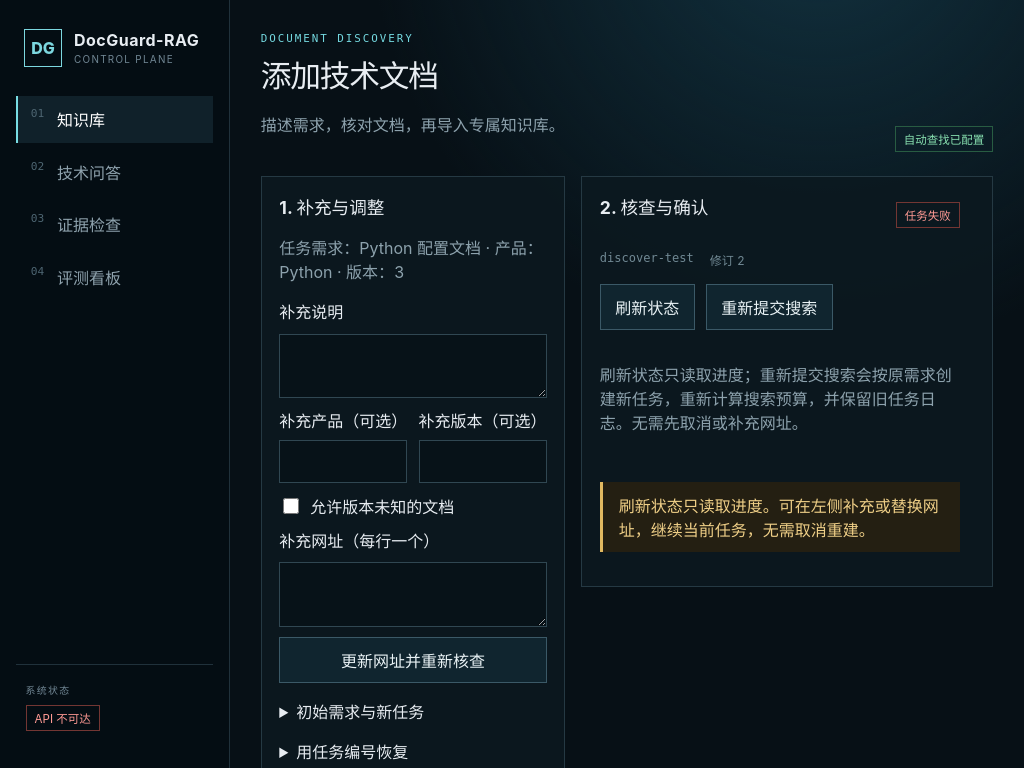
Test case: resubmitting explicit failed URLs preserves them and active searches cannot resubmit
Click the button "重新提交搜索" at (769,307), box [706,284,833,330]
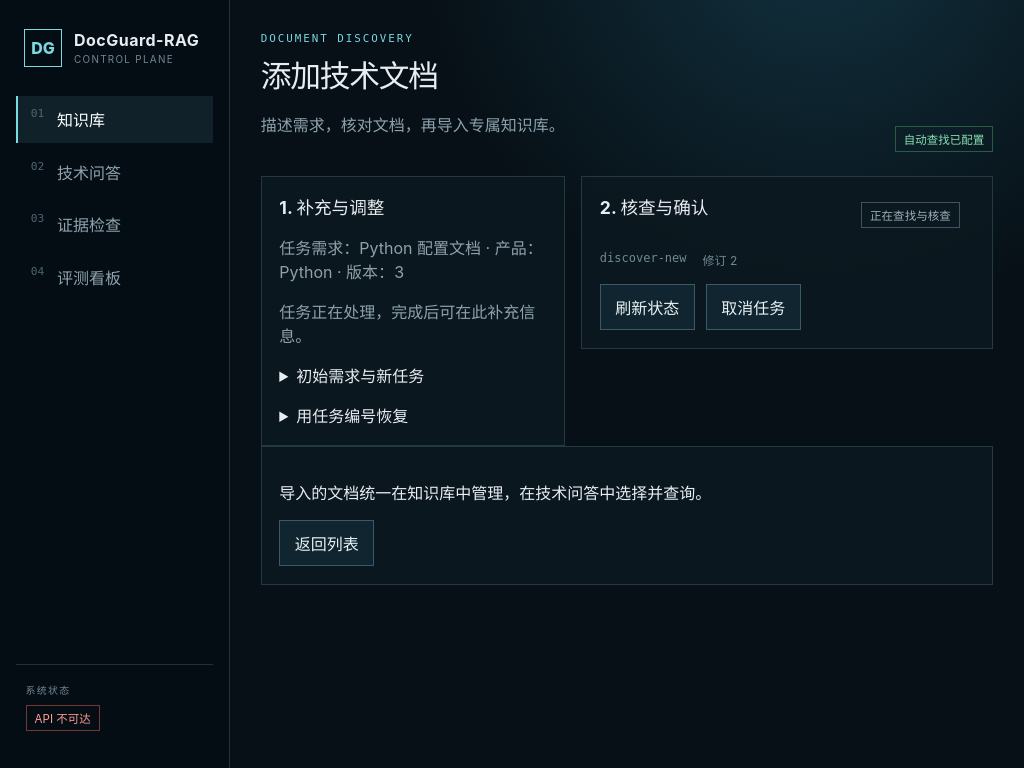
Expected: the text "discover-new" is shown, [600,251,686,268]
Expected: the button "重新提交搜索" is gone
